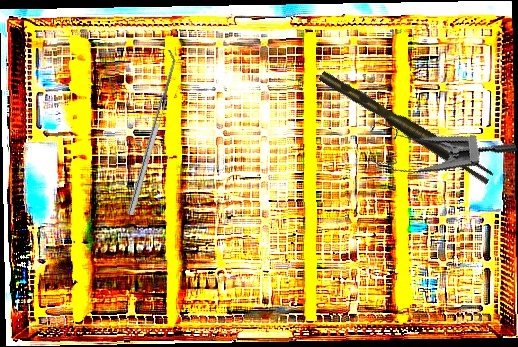Spatula Surgical: (120, 49, 181, 216)
Speculum: (356, 83, 518, 197)
Tissue Forceps: (318, 61, 495, 191)
